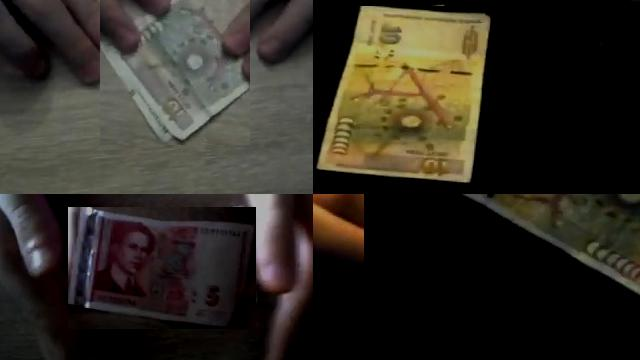10leva: (315, 6, 491, 183), (100, 0, 250, 145)
5leva: (68, 207, 256, 329)
